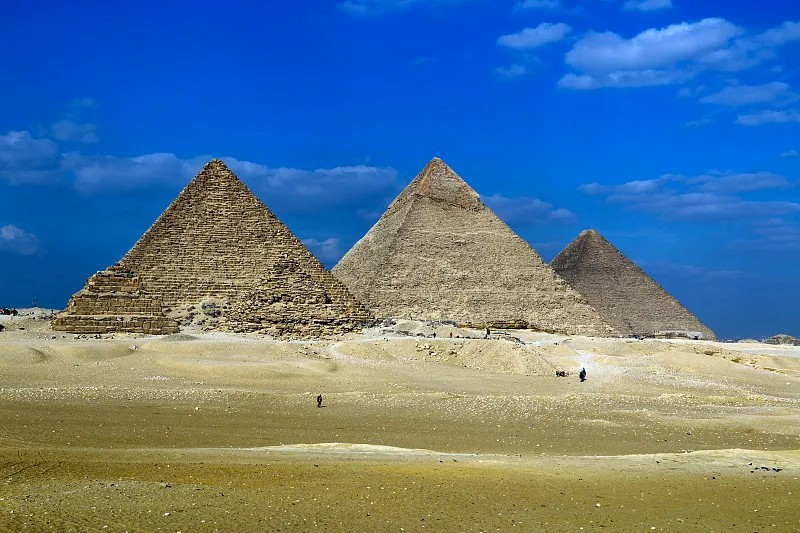Pyramid: (334, 159, 616, 337), (120, 159, 376, 329), (550, 229, 717, 343), (217, 259, 359, 336), (51, 266, 182, 334)
